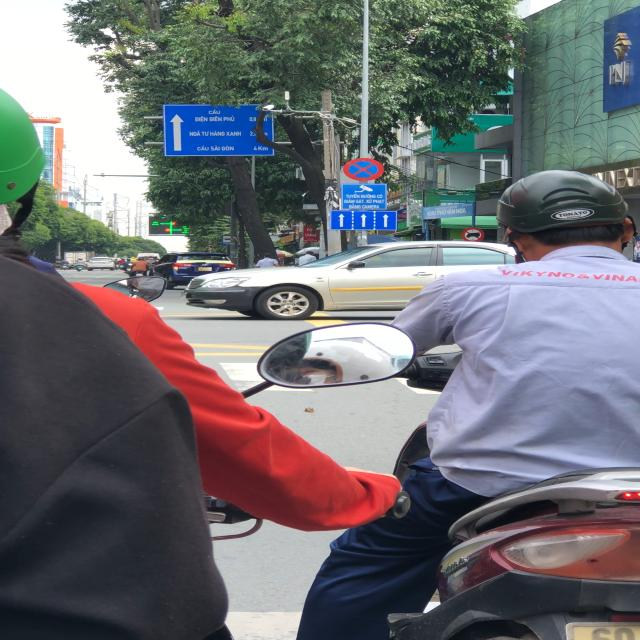Bien bao cam dung xe va do xe: (336, 154, 389, 180)
